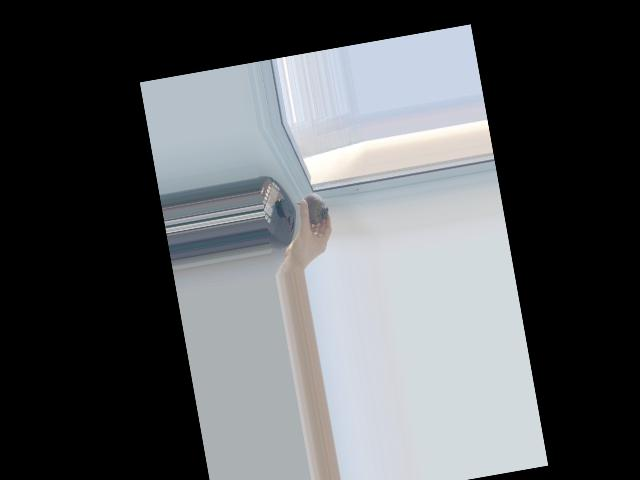beet: (295, 190, 330, 229)
